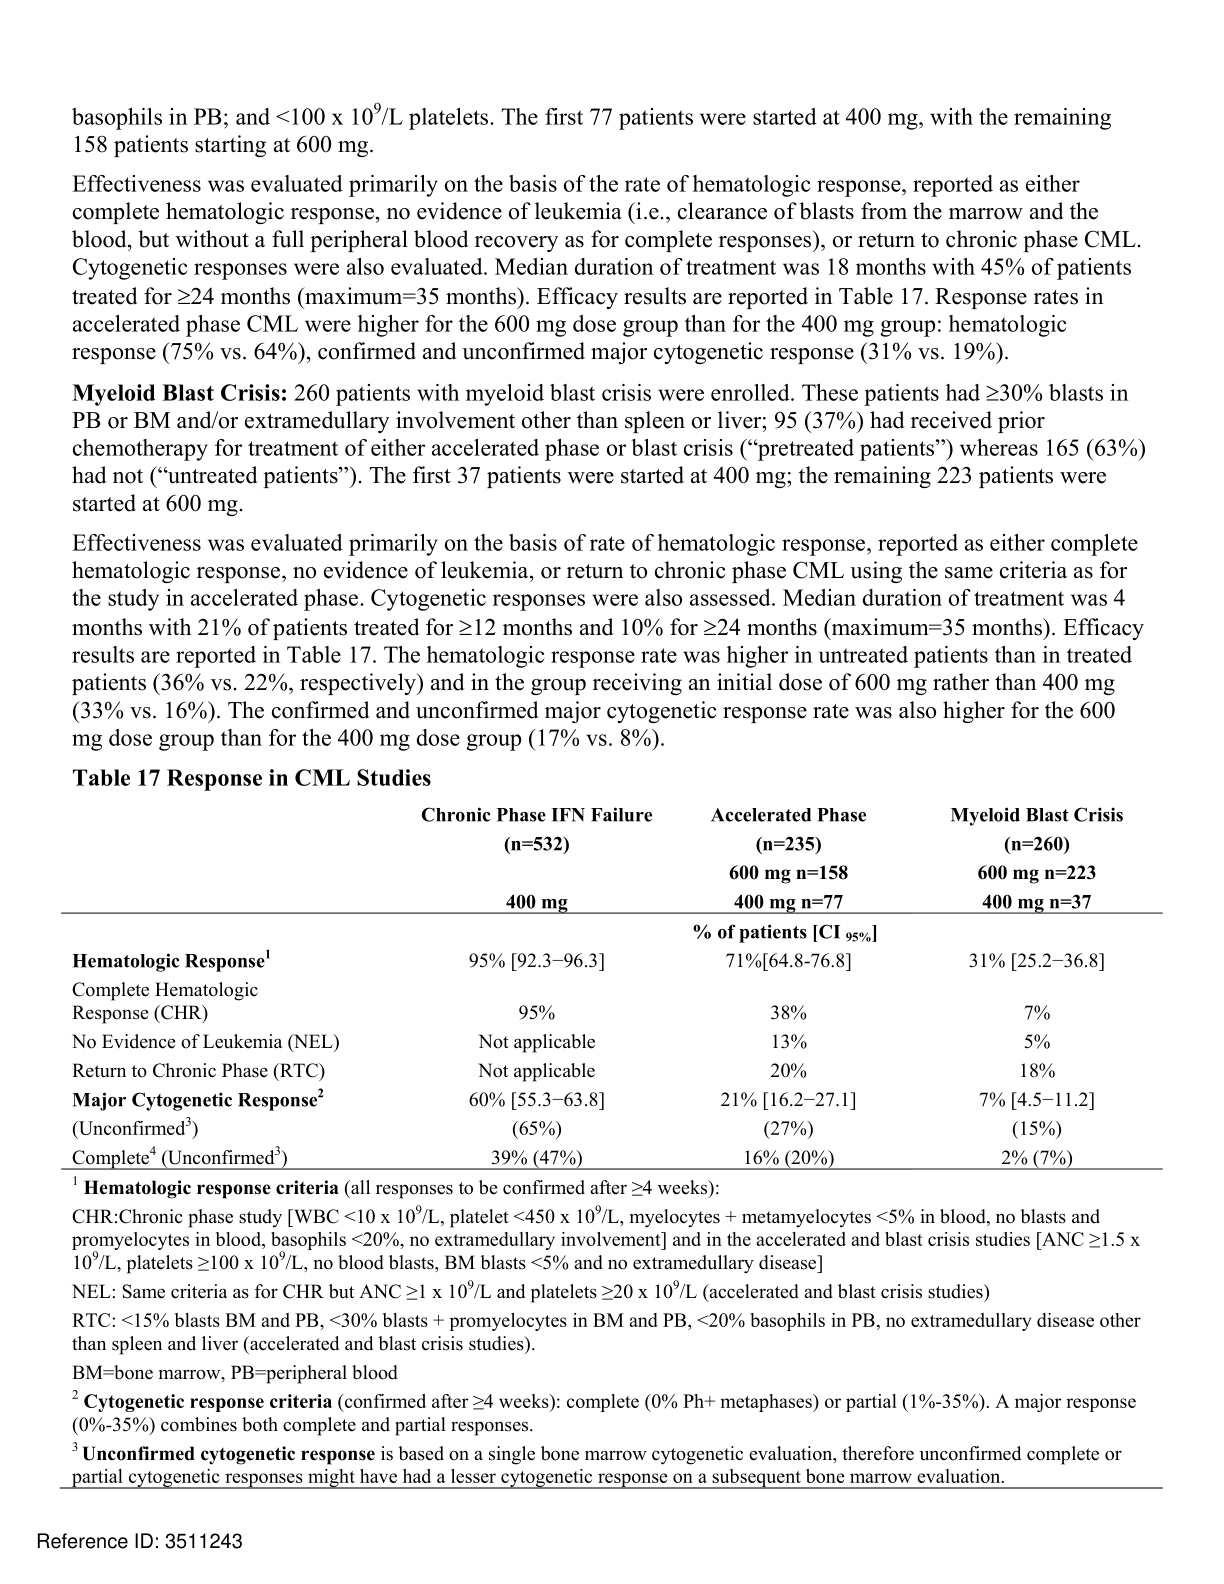partial_lined: (62, 804, 1162, 1173)
